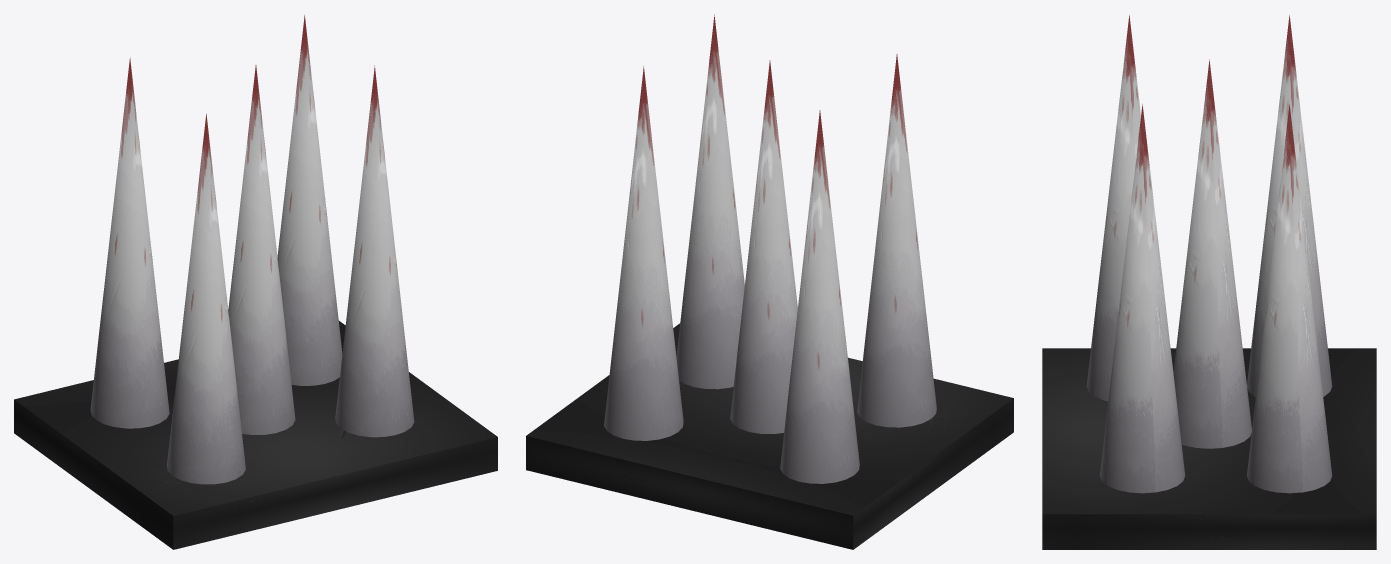
File: SonicSpikes.fbx
The picture shows the model from 3 angles, left to right: view 1: azimuth 30°, elevation 25°; view 2: azimuth 150°, elevation 25°; view 3: azimuth 270°, elevation 25°; orthographic projection. The views are drawn at different scales.
Parts seen in each view (by area): view 1: pCube1, pasted__pasted__pCone1, pasted__pasted__pasted__pasted__pCone1, pasted__pCone1, pCone1, pasted__pasted__pasted__pCone1; view 2: pCube1, pasted__pCone1, pasted__pasted__pasted__pCone1, pasted__pasted__pCone1, pasted__pasted__pasted__pasted__pCone1, pCone1; view 3: pCube1, pasted__pasted__pasted__pasted__pCone1, pasted__pasted__pasted__pCone1, pCone1, pasted__pCone1, pasted__pasted__pCone1.
Part boxes in pixels (<box>): pCube1: <box>14,320,497,549</box>; pasted__pasted__pCone1: <box>90,57,169,428</box>; pasted__pasted__pasted__pasted__pCone1: <box>335,65,414,437</box>; pasted__pCone1: <box>167,113,245,484</box>; pCone1: <box>228,65,295,434</box>; pasted__pasted__pasted__pCone1: <box>277,15,342,385</box>; pCube1: <box>526,323,1013,549</box>; pasted__pCone1: <box>857,54,936,427</box>; pasted__pasted__pasted__pCone1: <box>604,66,683,440</box>; pasted__pasted__pCone1: <box>780,110,859,483</box>; pasted__pasted__pasted__pasted__pCone1: <box>676,14,744,389</box>; pCone1: <box>730,60,797,433</box>; pCube1: <box>1042,348,1376,549</box>; pasted__pasted__pasted__pasted__pCone1: <box>1100,104,1185,493</box>; pasted__pasted__pasted__pCone1: <box>1247,104,1332,493</box>; pCone1: <box>1173,59,1251,448</box>; pasted__pCone1: <box>1086,15,1140,401</box>; pasted__pasted__pCone1: <box>1247,15,1332,396</box>.
Size of the model in its own units: 1.18 by 1.35 by 1.
